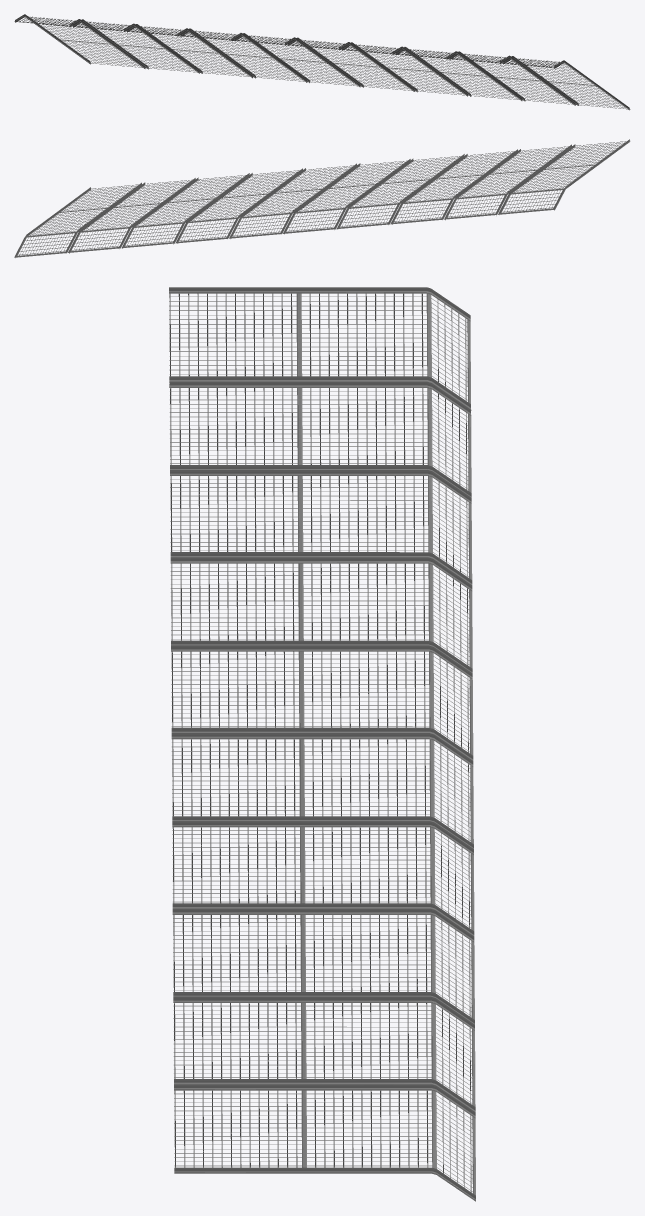
File: TrackLimits.032.obj
3 views of the same model, one above another, from view 1: azimuth 30°, elevation 25°; view 2: azimuth 150°, elevation 25°; view 3: azimuth 270°, elevation 25° (orthographic). The views are drawn at different scales.
Parts seen in each view (by area): view 1: TrackLimits.032_Scene.434; view 2: TrackLimits.032_Scene.434; view 3: TrackLimits.032_Scene.434.
Part boxes in pixels (x1=…): TrackLimits.032_Scene.434: x1=14, y1=14, x2=630, y2=110; TrackLimits.032_Scene.434: x1=14, y1=139, x2=630, y2=257; TrackLimits.032_Scene.434: x1=169, y1=287, x2=475, y2=1201.
Size of the model in its own units: 1508 by 519 by 371.
